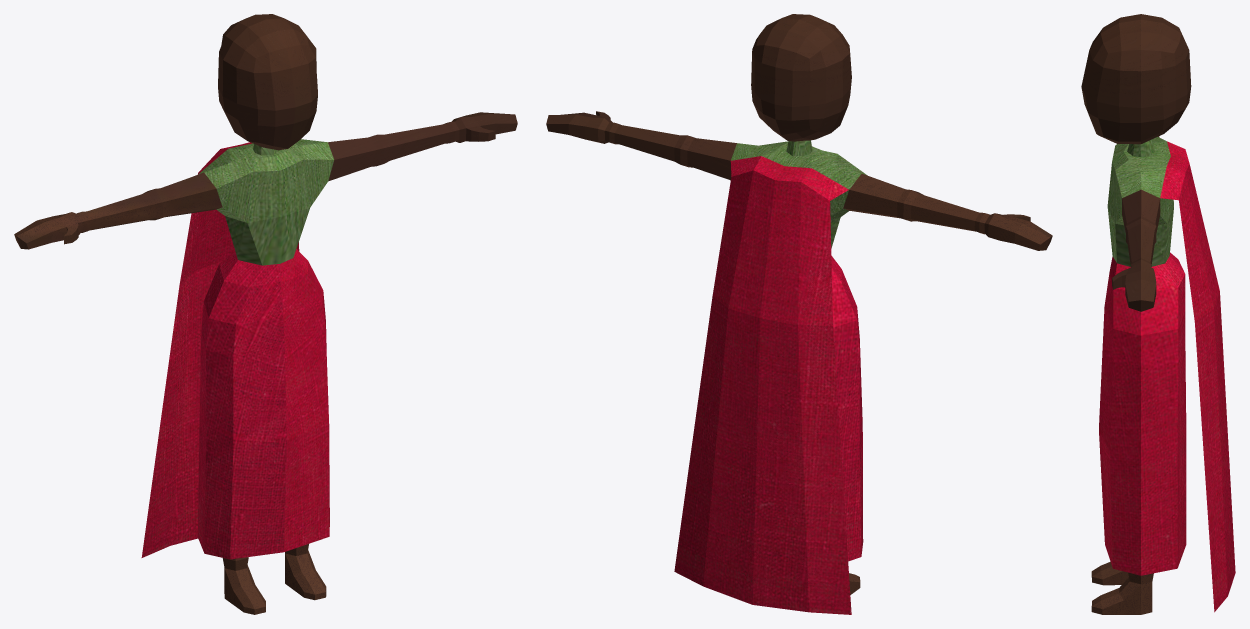
The model's file is New-Dummy.obj.
3 views of the same model, side by side, from view 1: azimuth 30°, elevation 25°; view 2: azimuth 150°, elevation 25°; view 3: azimuth 270°, elevation 25° (orthographic).
Parts seen in each view (by area): view 1: Cylinder; view 2: Cylinder; view 3: Cylinder.
Part boxes in pixels (x1=…): Cylinder: x1=14, y1=14, x2=517, y2=614; Cylinder: x1=546, y1=14, x2=1052, y2=614; Cylinder: x1=1081, y1=14, x2=1235, y2=614.
Size of the model in its own units: 7.59 by 8.28 by 2.01.
